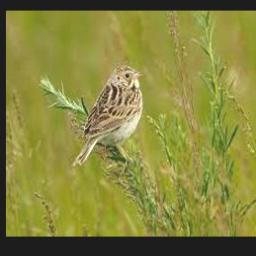Sparrow: (71, 65, 143, 168)
